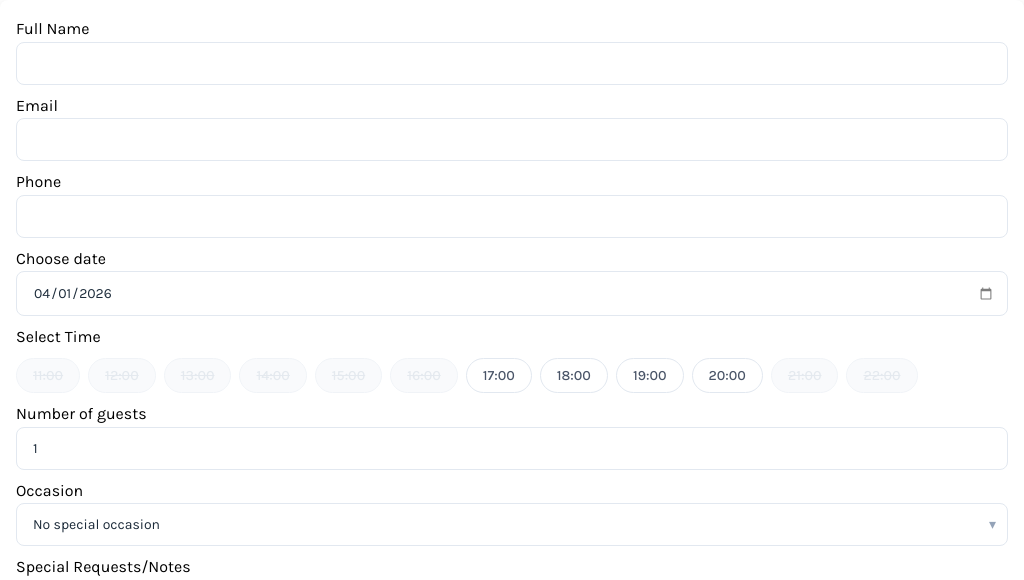
Test: BookingForm › Validation › shows error for invalid phone
The image size is (1024, 580).
Type "123" into the field labelled "Phone" at (512, 216), box [16,195,1008,238]
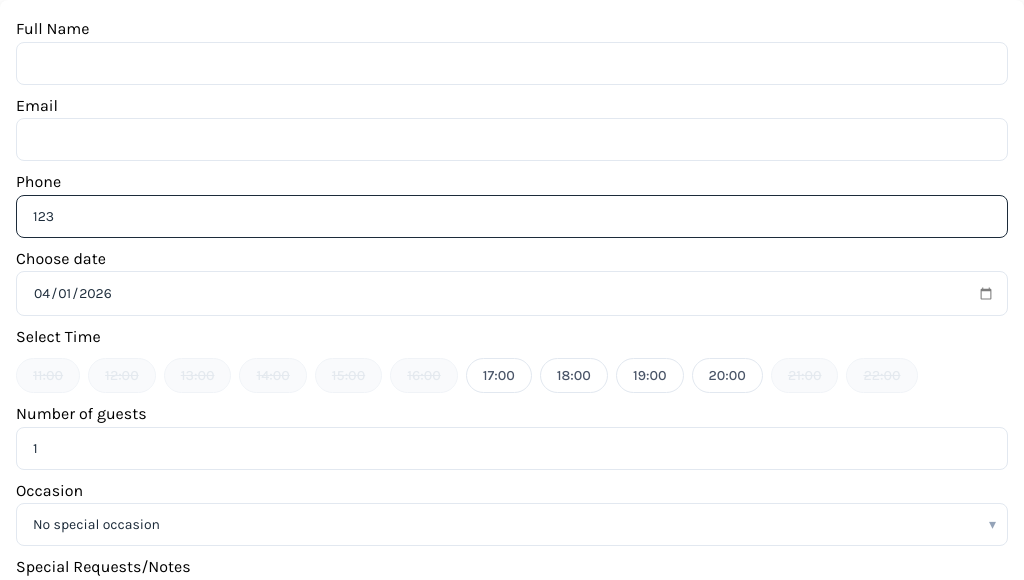
Leave the field labelled "Phone", box [16,195,1008,238]
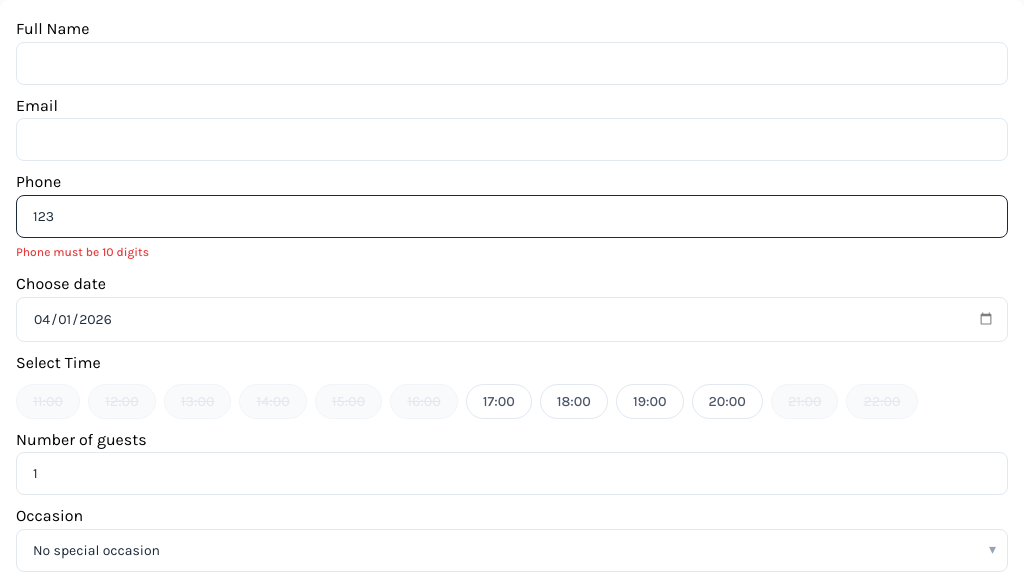
Expected: the text "Phone must be 10 digits" is shown, [16,245,149,259]
